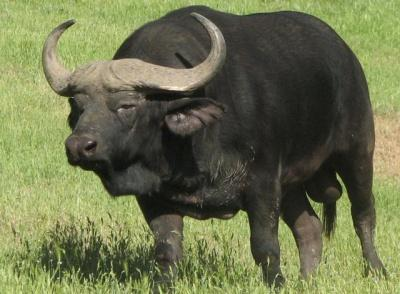buffalo: (42, 6, 381, 284)
